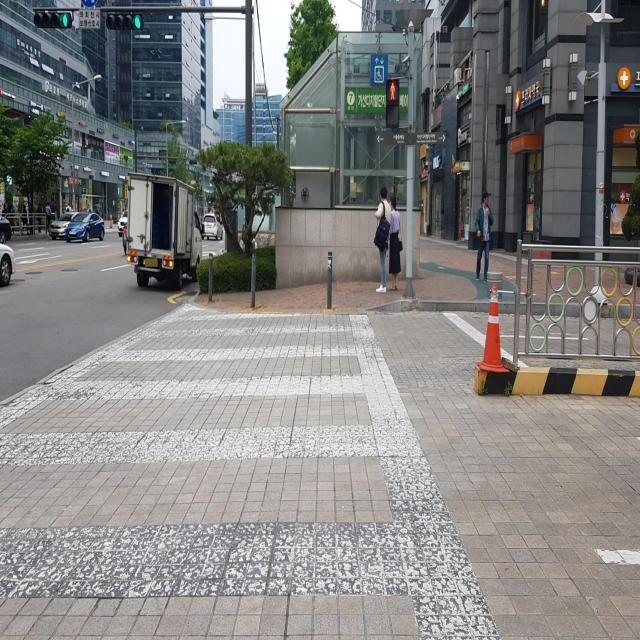빨간불: (386, 78, 400, 128)
